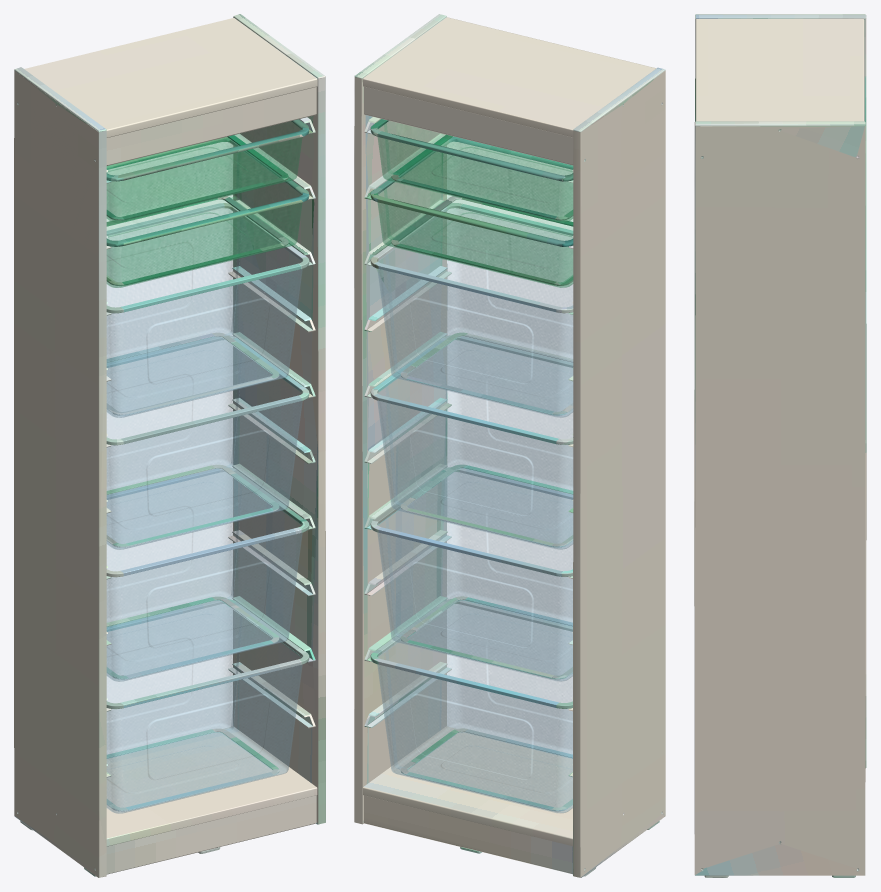
The model's file is 29 - TROFAST Storage combination with boxes - white light green-greygrey-blue 46x30x145 cm.glb.
The picture shows the model from 3 angles, left to right: view 1: azimuth 30°, elevation 25°; view 2: azimuth 150°, elevation 25°; view 3: azimuth 270°, elevation 25°; orthographic projection.
Visible parts, largest first — view 1: 60351429-TROFAST001, 2.006, 2.002, 2.005, 2.004, 2.003, 2.001, 1.004, 1.003, 1.002, 1.001, ProcessedMeshNode.002 (+1 smaller); view 2: 60351429-TROFAST001, 2.006, 2.005, 2.002, 2.004, 2.003, 2.001, 1.004, 1.003, 1.002, 1.001, ProcessedMeshNode.002 (+1 smaller); view 3: 60351429-TROFAST001.
Part boxes in pixels (box(x1,y1,x2,y2)): 60351429-TROFAST001: box(14, 14, 325, 877); 2.006: box(106, 208, 302, 417); 2.002: box(106, 605, 302, 813); 2.005: box(106, 341, 302, 549); 2.004: box(106, 472, 302, 681); 2.003: box(106, 142, 302, 287); 2.001: box(106, 121, 302, 222); 1.004: box(106, 203, 309, 415); 1.003: box(106, 335, 309, 547); 1.002: box(106, 599, 309, 811); 1.001: box(106, 467, 309, 679); ProcessedMeshNode.002: box(106, 137, 309, 286); 60351429-TROFAST001: box(354, 14, 665, 877); 2.006: box(377, 208, 573, 417); 2.005: box(377, 340, 573, 549); 2.002: box(377, 605, 572, 813); 2.004: box(377, 472, 572, 681); 2.003: box(378, 142, 573, 287); 2.001: box(377, 121, 573, 222); 1.004: box(370, 203, 573, 415); 1.003: box(370, 335, 573, 547); 1.002: box(370, 599, 572, 811); 1.001: box(370, 467, 573, 679); ProcessedMeshNode.002: box(370, 136, 573, 285); 60351429-TROFAST001: box(694, 14, 866, 877).
Bounding box in the file's own units: 0.4603 × 1.45 × 0.3012.
2 materials, 2 textured.
